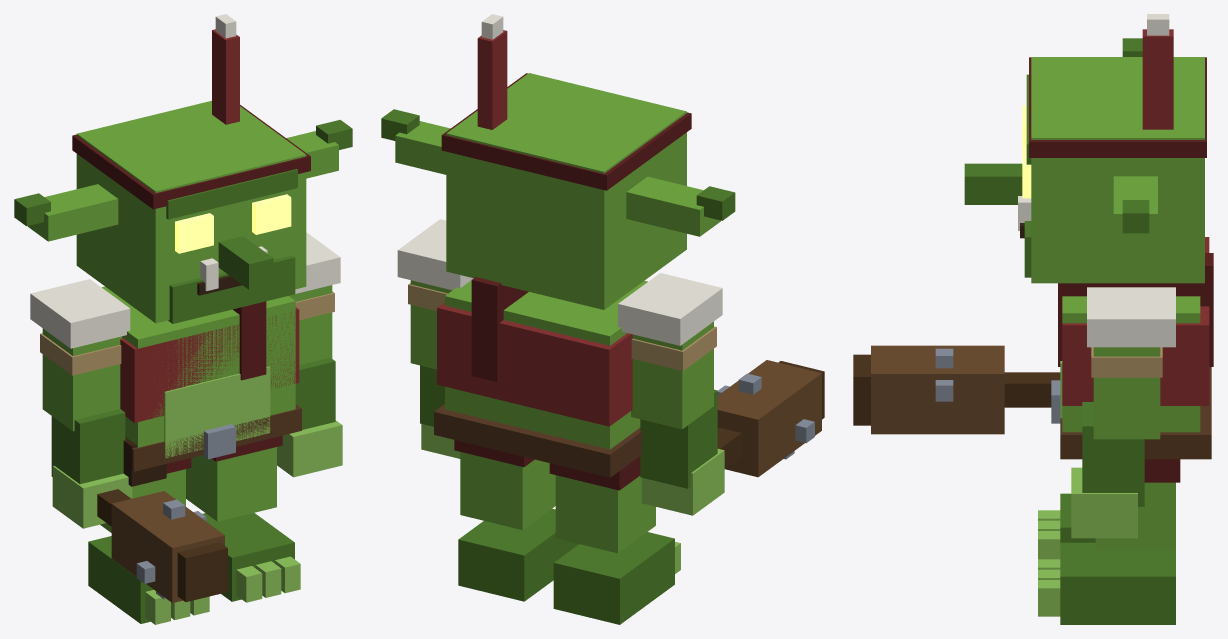
File: monster-rusher.glb
3 renders of one model, left to right at view 1: azimuth 30°, elevation 25°; view 2: azimuth 150°, elevation 25°; view 3: azimuth 270°, elevation 25°, orthographic. The views are drawn at different scales.
Visible parts, largest first — view 1: head, body, body_cloth, weapon_club, body_belly, left_leg, right_shoulder_bone, right_arm, right_arm_fore, head_jaw, hair_band, left_foot (+30 smaller); view 2: head, body_cloth, body, right_foot, weapon_club, left_foot, body_belt, right_leg, left_leg, right_shoulder_bone, right_arm, hair_band (+17 smaller); view 3: head, weapon_club, left_foot, body_cloth, left_shoulder_bone, left_arm, left_arm_fore, hair_band, left_hand, hair_feather, body, left_leg (+13 smaller).
Part boxes in pixels (x1,y1,x2,y2): head: [76, 100, 306, 323]; body: [102, 286, 295, 447]; body_cloth: [120, 307, 299, 422]; weapon_club: [111, 491, 224, 602]; body_belly: [164, 366, 270, 458]; left_leg: [186, 447, 276, 521]; right_shoulder_bone: [30, 279, 130, 348]; right_arm: [42, 328, 121, 431]; right_arm_fore: [51, 409, 125, 483]; head_jaw: [168, 255, 295, 323]; hair_band: [72, 105, 310, 209]; left_foot: [202, 513, 294, 601]; head: [446, 73, 686, 309]; body_cloth: [437, 302, 632, 426]; body: [445, 280, 647, 449]; right_foot: [553, 532, 674, 624]; weapon_club: [717, 360, 821, 477]; left_foot: [458, 508, 578, 601]; body_belt: [434, 404, 641, 477]; right_leg: [555, 475, 655, 553]; left_leg: [460, 452, 555, 529]; right_shoulder_bone: [618, 273, 722, 345]; right_arm: [631, 321, 713, 429]; hair_band: [441, 73, 691, 190]; head: [1031, 57, 1204, 283]; weapon_club: [871, 345, 1004, 434]; left_foot: [1060, 542, 1175, 624]; body_cloth: [1062, 237, 1209, 405]; left_shoulder_bone: [1087, 287, 1175, 347]; left_arm: [1093, 347, 1160, 439]; left_arm_fore: [1082, 402, 1144, 506]; hair_band: [1029, 57, 1206, 157]; left_hand: [1071, 467, 1137, 538]; hair_feather: [1142, 29, 1173, 129]; body: [1062, 296, 1200, 432]; left_leg: [1095, 482, 1175, 549].
Size of the model in its own units: 1.86 by 2.95 by 1.62.
